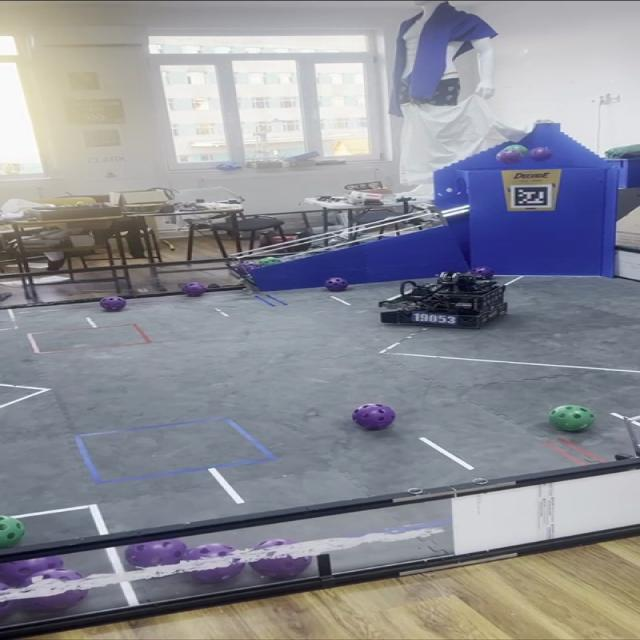artifact_green: (550, 405, 594, 431), (0, 516, 25, 548), (503, 144, 529, 155), (258, 257, 281, 266)
artifact_purple: (0, 557, 63, 586), (126, 539, 187, 568), (23, 590, 87, 611), (250, 556, 311, 578), (190, 560, 245, 583), (352, 404, 395, 430), (180, 282, 207, 296), (496, 150, 523, 164), (100, 297, 126, 311), (0, 601, 18, 619), (326, 278, 349, 292), (530, 147, 551, 161), (236, 262, 258, 275), (472, 267, 494, 279), (207, 284, 221, 290)
